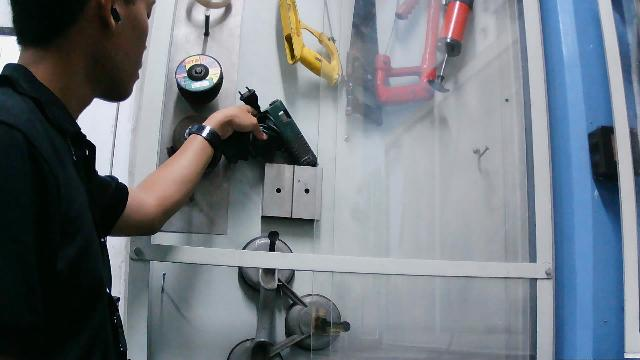gun_lem: (222, 84, 323, 178)
